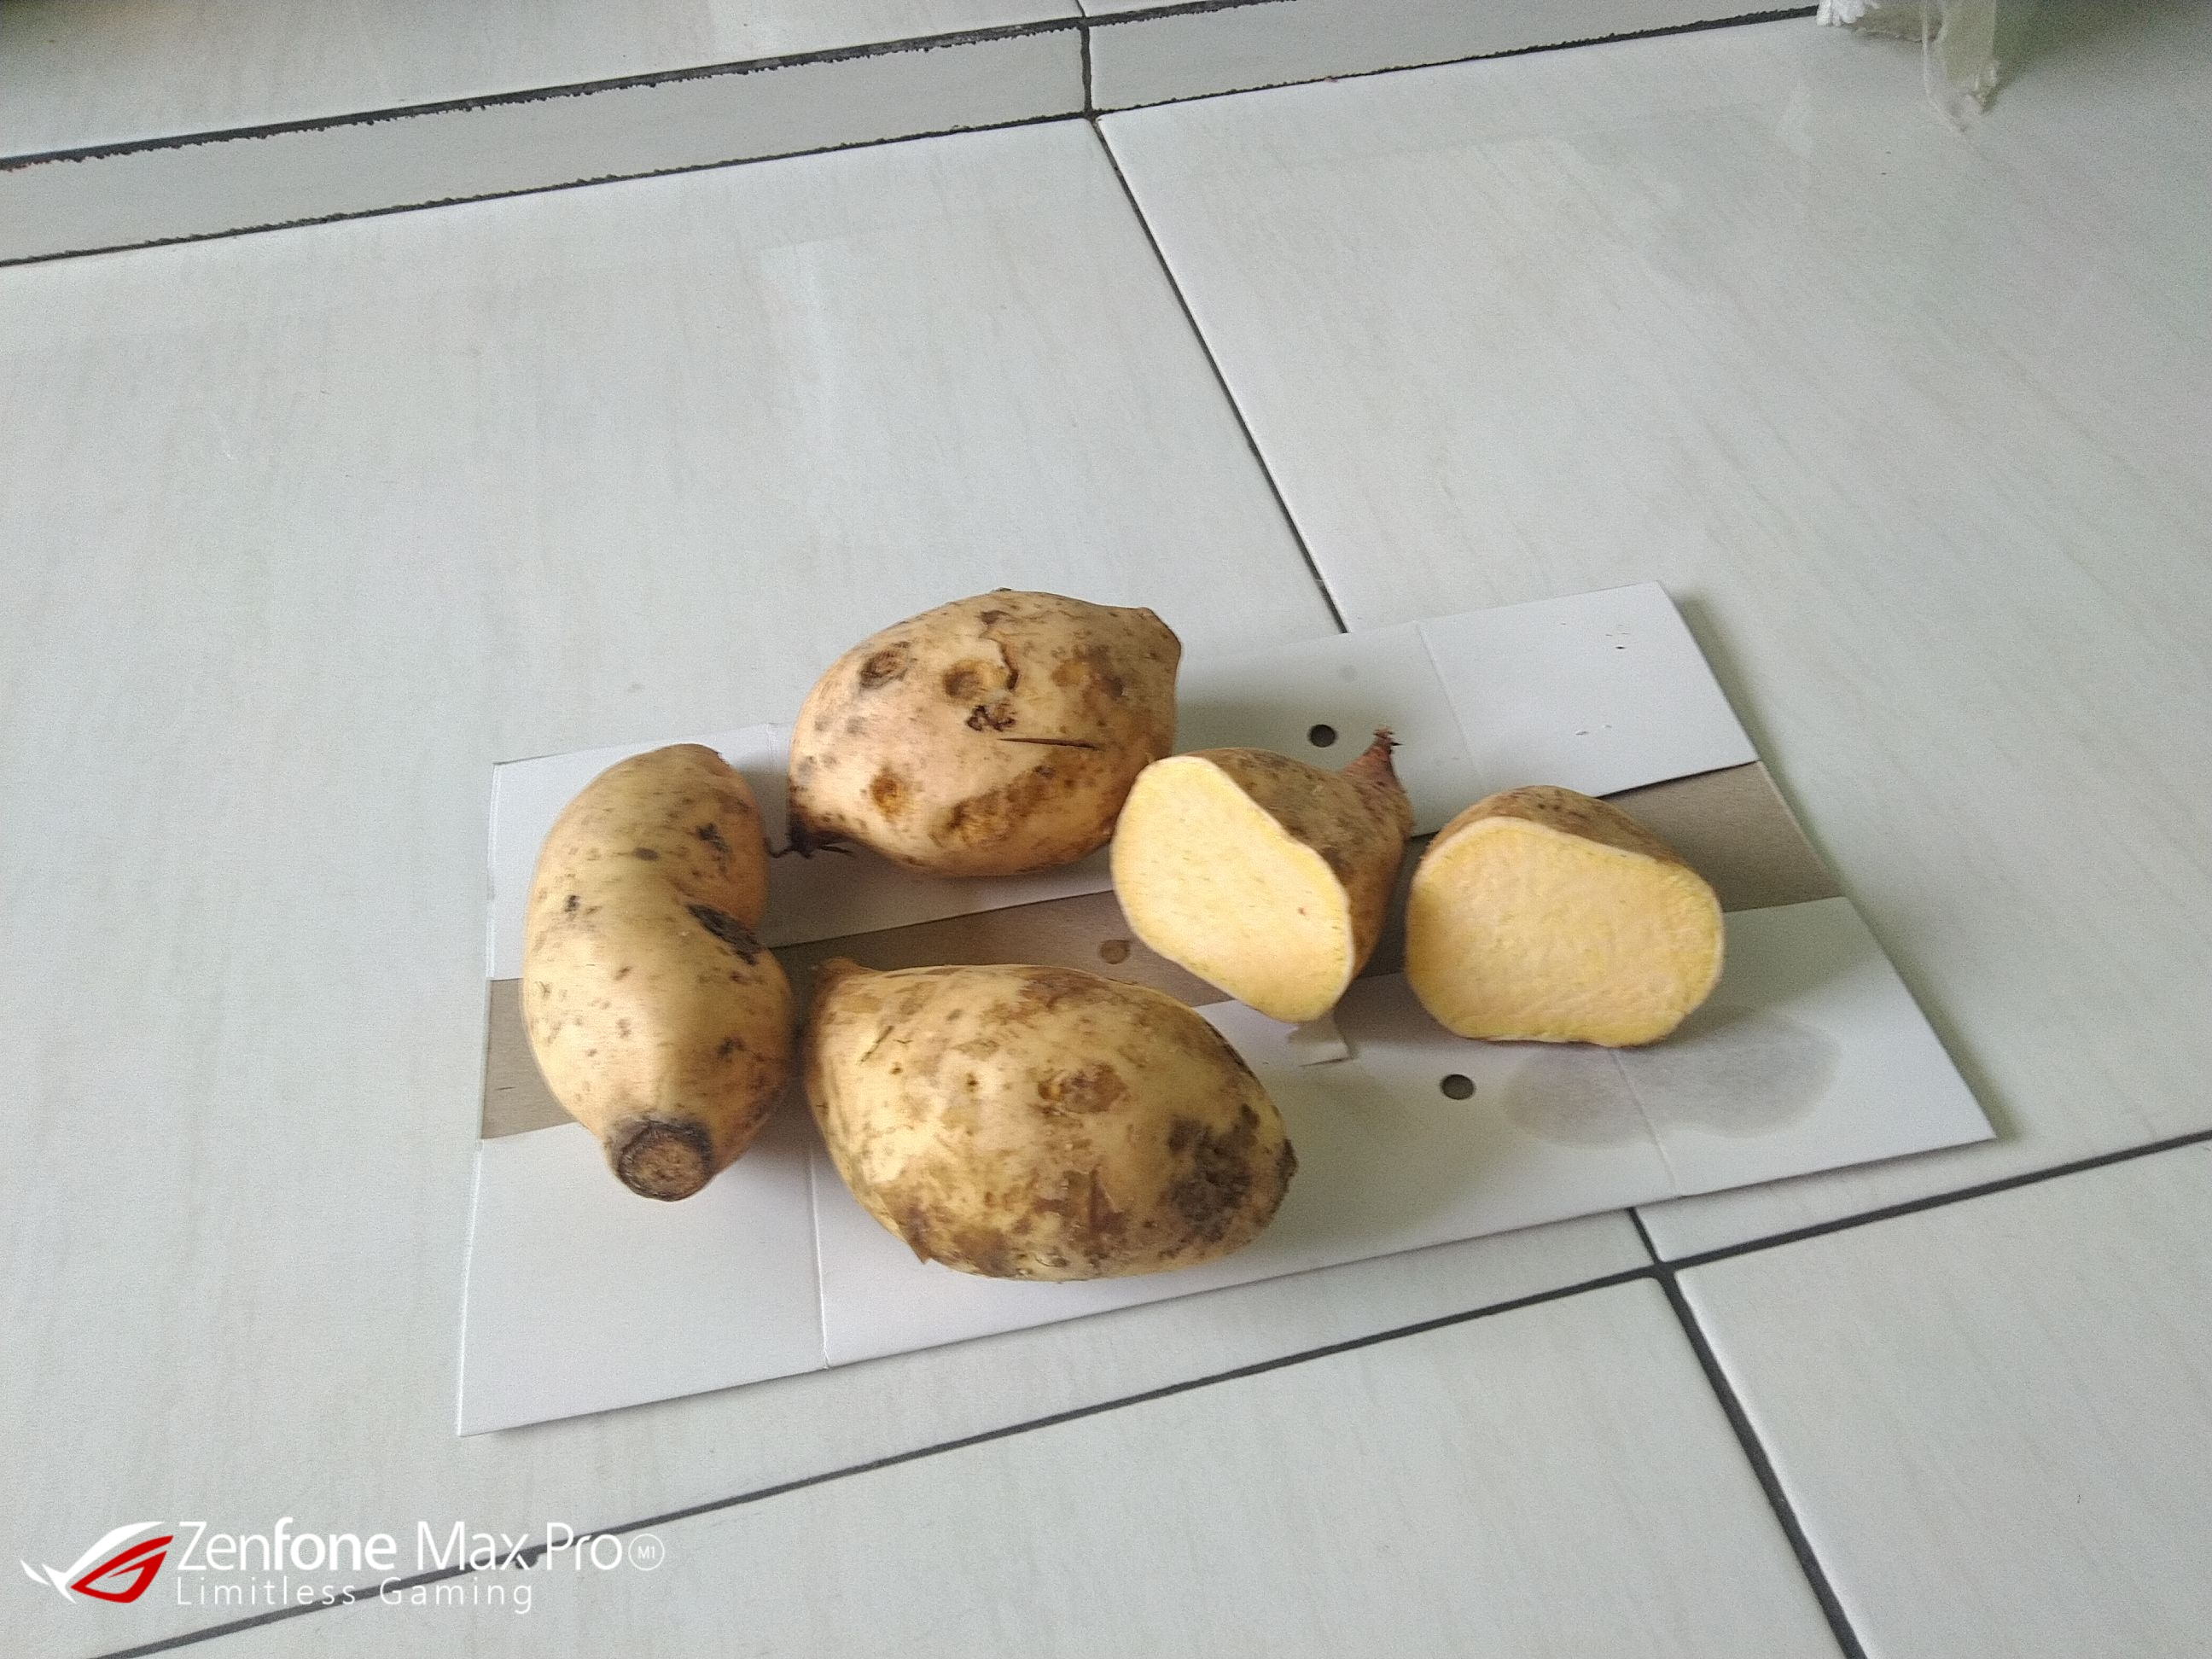ubi kuning: (784, 957, 1308, 1283), (512, 737, 784, 1232), (787, 575, 1179, 878), (1108, 721, 1435, 1040), (1395, 769, 1745, 1047)
